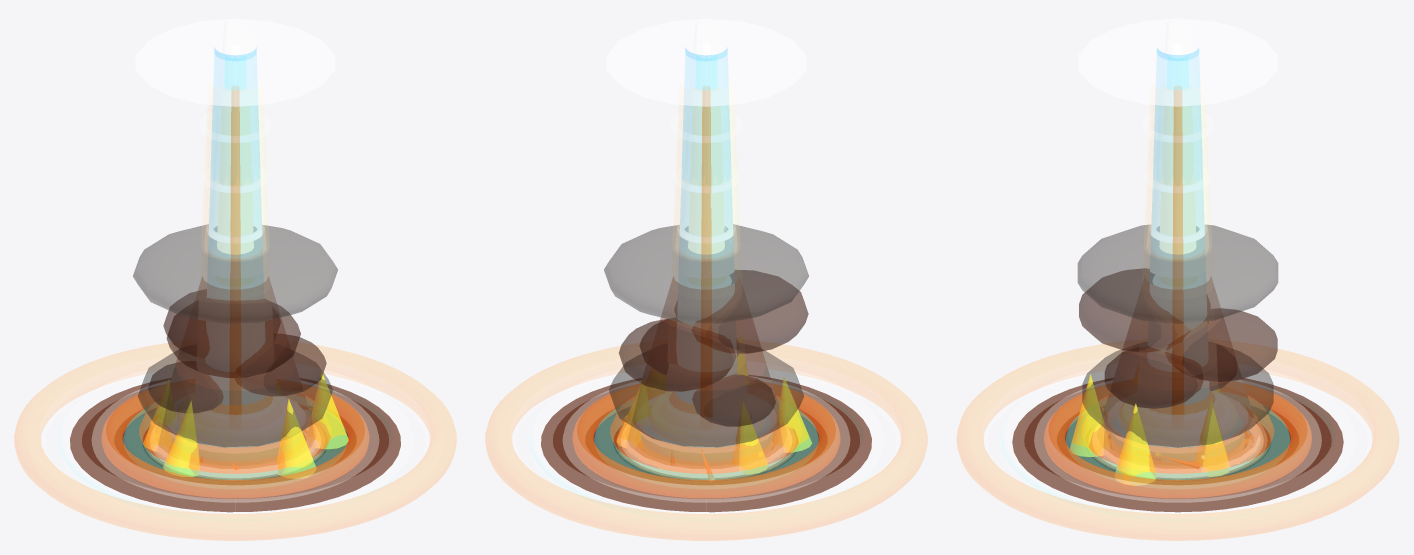
File: command_effects.glb
The picture shows the model from 3 angles, left to right: view 1: azimuth 30°, elevation 25°; view 2: azimuth 150°, elevation 25°; view 3: azimuth 270°, elevation 25°; orthographic projection.
Parts seen in each view (by area): view 1: support_firestorm, support_firestorm_shock, support_firestorm_plume, support_orbital_lance_flare_top, support_orbital_lance_shock, support_kinetic_spear, support_firestorm_ring, support_orbital_lance_beam, support_kinetic_spear_ring, support_kinetic_spear_shaft, support_orbital_lance_ring_outer, support_firestorm_core (+3 smaller); view 2: support_firestorm, support_firestorm_shock, support_firestorm_plume, support_orbital_lance_flare_top, support_kinetic_spear, support_orbital_lance_shock, support_firestorm_ring, support_orbital_lance_beam, support_kinetic_spear_ring, support_orbital_lance_ring_outer, support_kinetic_spear_shaft, support_kinetic_spear_flare (+3 smaller); view 3: support_firestorm, support_firestorm_shock, support_firestorm_plume, support_kinetic_spear, support_orbital_lance_flare_top, support_orbital_lance_shock, support_firestorm_ring, support_orbital_lance_beam, support_kinetic_spear_ring, support_kinetic_spear_shaft, support_orbital_lance_ring_outer, support_firestorm_core (+3 smaller).
Boxes of the visible parts, bbox=[...] form: support_firestorm: bbox=[70, 224, 400, 512]; support_firestorm_shock: bbox=[14, 343, 456, 540]; support_firestorm_plume: bbox=[159, 277, 314, 468]; support_orbital_lance_flare_top: bbox=[135, 18, 335, 106]; support_orbital_lance_shock: bbox=[58, 370, 412, 522]; support_kinetic_spear: bbox=[40, 21, 430, 480]; support_firestorm_ring: bbox=[102, 384, 368, 498]; support_orbital_lance_beam: bbox=[209, 48, 261, 288]; support_kinetic_spear_ring: bbox=[92, 384, 378, 502]; support_kinetic_spear_shaft: bbox=[229, 86, 241, 414]; support_orbital_lance_ring_outer: bbox=[123, 405, 347, 479]; support_firestorm_core: bbox=[177, 396, 292, 437]; support_firestorm: bbox=[541, 224, 871, 512]; support_firestorm_shock: bbox=[485, 345, 927, 540]; support_firestorm_plume: bbox=[628, 277, 782, 468]; support_orbital_lance_flare_top: bbox=[606, 18, 806, 106]; support_kinetic_spear: bbox=[511, 21, 901, 481]; support_orbital_lance_shock: bbox=[529, 369, 883, 522]; support_firestorm_ring: bbox=[573, 382, 839, 498]; support_orbital_lance_beam: bbox=[680, 48, 736, 362]; support_kinetic_spear_ring: bbox=[563, 381, 849, 502]; support_orbital_lance_ring_outer: bbox=[594, 405, 818, 479]; support_kinetic_spear_shaft: bbox=[701, 86, 711, 372]; support_kinetic_spear_flare: bbox=[637, 395, 776, 453]; support_firestorm: bbox=[1012, 225, 1343, 512]; support_firestorm_shock: bbox=[957, 344, 1398, 540]; support_firestorm_plume: bbox=[1103, 278, 1258, 468]; support_kinetic_spear: bbox=[982, 21, 1373, 481]; support_orbital_lance_flare_top: bbox=[1078, 18, 1277, 106]; support_orbital_lance_shock: bbox=[1000, 369, 1355, 522]; support_firestorm_ring: bbox=[1044, 381, 1311, 498]; support_orbital_lance_beam: bbox=[1151, 48, 1204, 328]; support_kinetic_spear_ring: bbox=[1034, 380, 1321, 502]; support_kinetic_spear_shaft: bbox=[1172, 86, 1183, 413]; support_orbital_lance_ring_outer: bbox=[1066, 405, 1289, 479]; support_firestorm_core: bbox=[1119, 391, 1236, 437].
Size of the model in its own units: 294 by 336 by 294.
